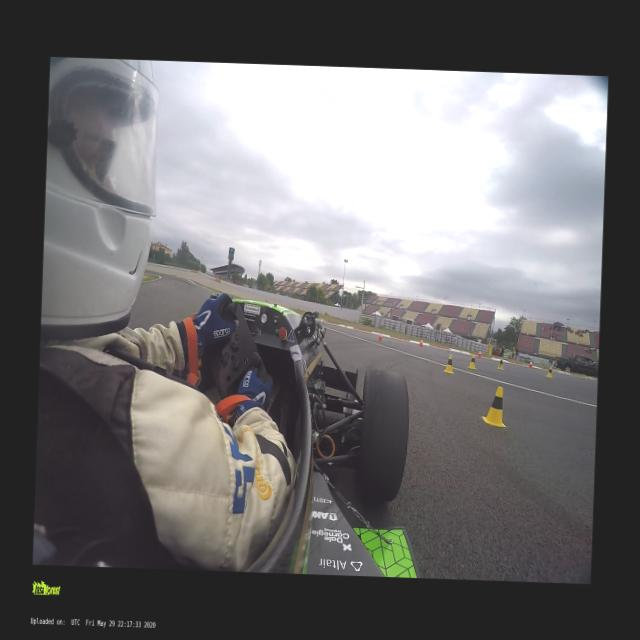orange_cone: (378, 330, 382, 342), (527, 360, 532, 368), (476, 351, 481, 356), (420, 337, 422, 347)
yellow_cone: (480, 386, 508, 429), (442, 354, 453, 374), (466, 354, 476, 370), (544, 366, 552, 378), (496, 357, 503, 370)
